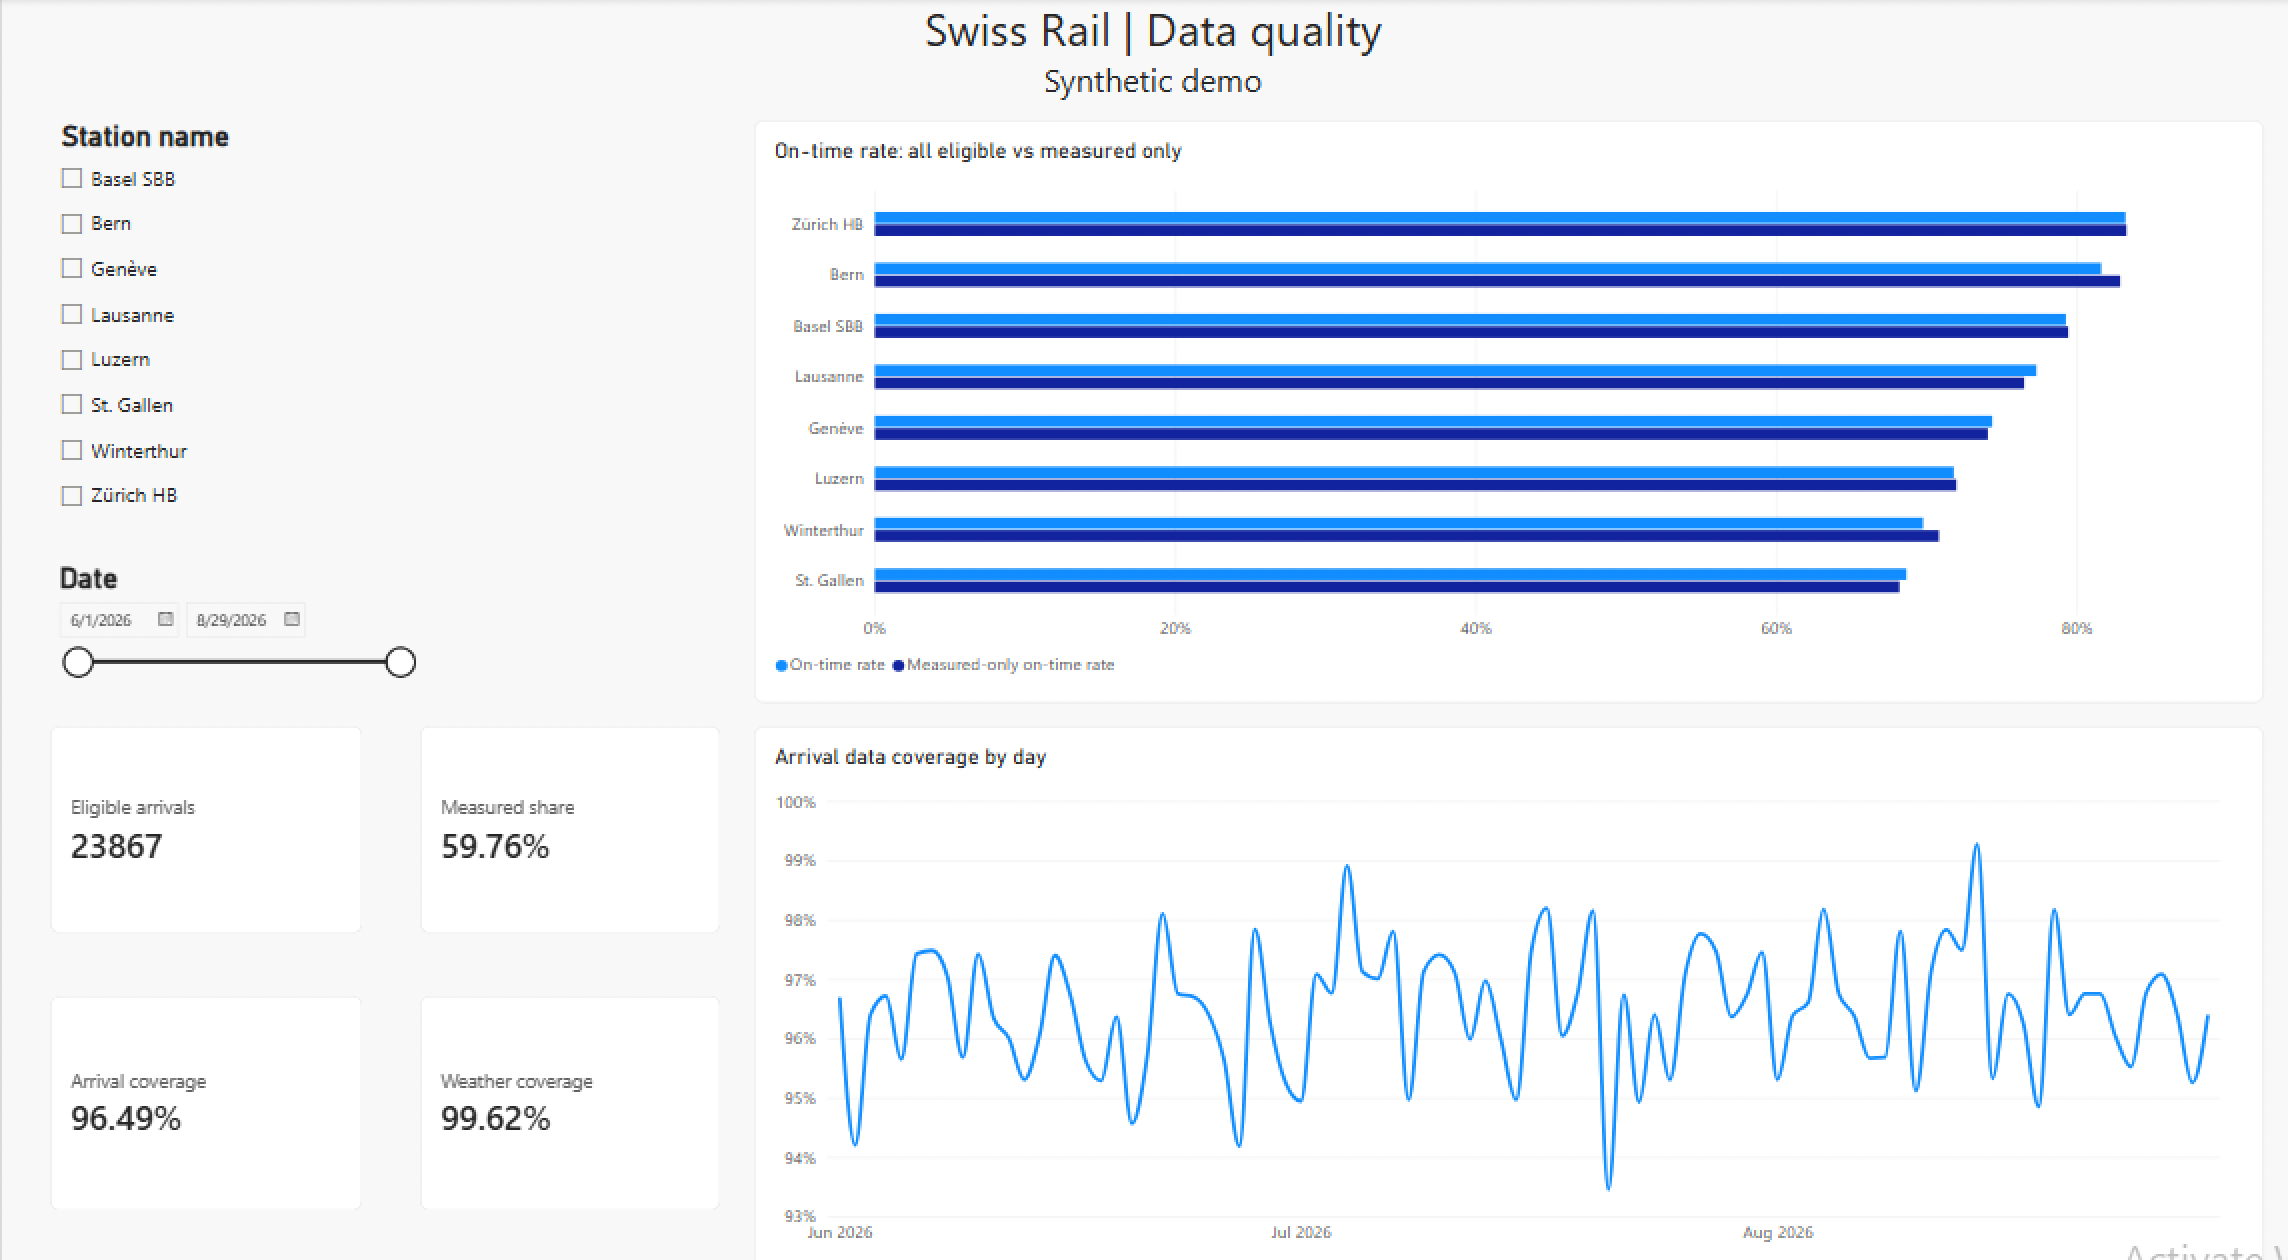

The dashboard page shown, as its layout file describes it:
{"tool":"powerbi","page":{"name":"Data quality","canvas":[1920,1080],"ordinal":2},"visuals":[{"type":"textbox","box":[9.5,0,1910.5,102.7],"z":0},{"type":"slicer","fields":{"Values":["dim_station.station_name"]},"box":[41.8,102.7,224.3,336.5],"z":1},{"type":"slicer","fields":{"Values":["dim_date.date_id"]},"box":[39.9,473.3,309.9,271.8],"z":2},{"type":"cardVisual","fields":{"Data":["fct_stop_event.Eligible arrivals"]},"box":[39.9,610.2,262.3,174.9],"z":3},{"type":"cardVisual","fields":{"Data":["fct_stop_event.Arrival coverage"]},"box":[39.9,836.4,262.3,180.6],"z":4},{"type":"cardVisual","fields":{"Data":["fct_stop_event.Measured share"]},"box":[349.8,610.2,252.8,174.9],"z":5},{"type":"cardVisual","fields":{"Data":["fct_stop_event.Weather coverage"]},"box":[349.8,836.4,252.8,180.6],"z":6},{"type":"clusteredBarChart","title":"On-time rate: all eligible vs measured only","fields":{"Category":["dim_station.station_name"],"Y":["fct_stop_event.On-time rate","fct_stop_event.Measured-only on-time rate"]},"box":[631.1,102.7,1266.1,488.6],"z":7},{"type":"lineChart","title":"Arrival data coverage by day","fields":{"Category":["dim_date.date_id"],"Y":["fct_stop_event.Arrival coverage"]},"box":[631.1,610.2,1266.1,456.2],"z":8}]}

Visuals, with their boxes in screenshot pixels (x1, y1, x2, y2), scaled from the page's 1920x1080 canvas onto the 2288x1260 screenshot:
textbox: box=[11, 0, 2287, 120]
slicer - dim_station.station_name: box=[50, 120, 317, 512]
slicer - dim_date.date_id: box=[48, 552, 417, 869]
cardVisual - fct_stop_event.Eligible arrivals: box=[48, 712, 360, 916]
cardVisual - fct_stop_event.Arrival coverage: box=[48, 976, 360, 1186]
cardVisual - fct_stop_event.Measured share: box=[417, 712, 718, 916]
cardVisual - fct_stop_event.Weather coverage: box=[417, 976, 718, 1186]
"On-time rate: all eligible vs measured only" clusteredBarChart: box=[752, 120, 2261, 690]
"Arrival data coverage by day" lineChart: box=[752, 712, 2261, 1244]
